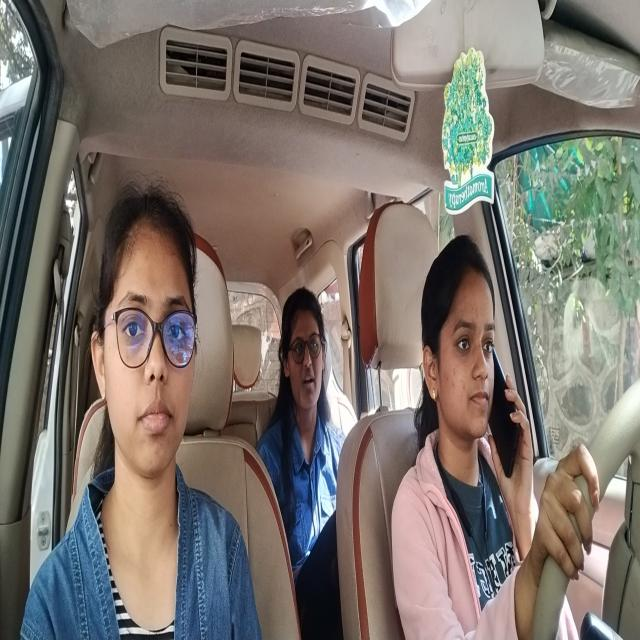mobile: (490, 345, 523, 485)
person: (89, 170, 208, 489), (420, 231, 500, 452), (278, 282, 330, 422)
